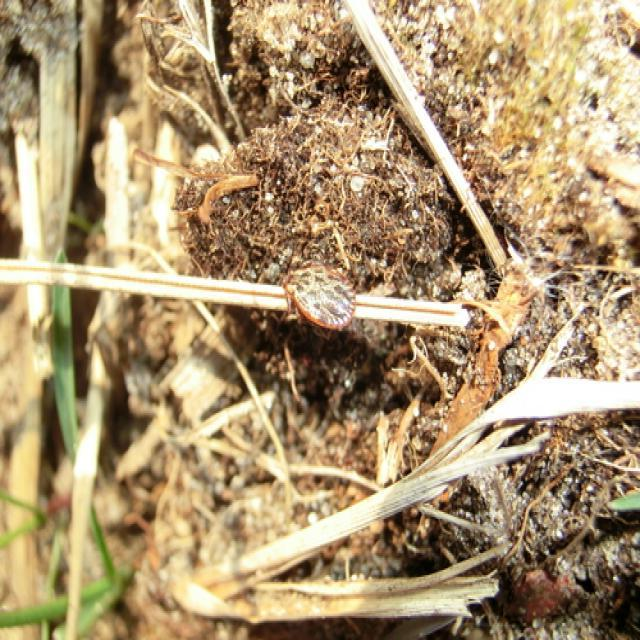Dermacentor Reticulatus-M: (282, 261, 361, 328)
